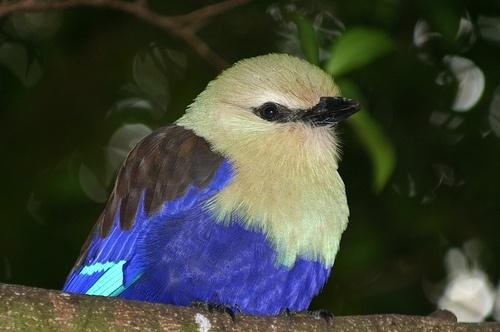bird: (61, 53, 362, 317)
